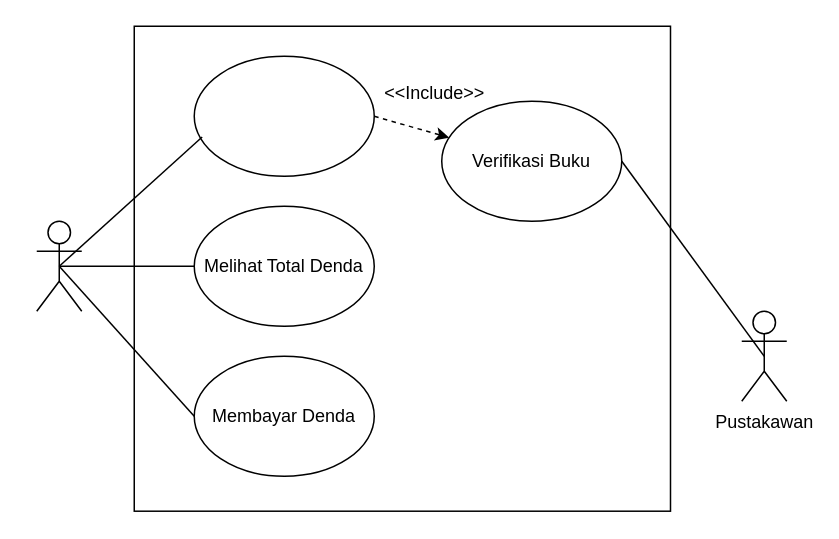
The diagram is 839 pixels wide and 539 high, and some of its shapes have lost their labels. Each missing label, with the box of its shape:
Anggota: (35, 220, 82, 311)
Mengembalikan Buku: (193, 55, 374, 176)
